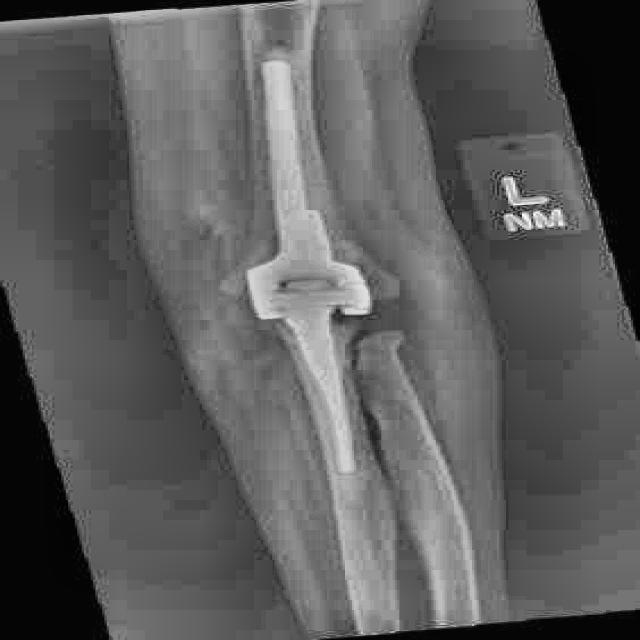elbow positive: (190, 253, 402, 361)
